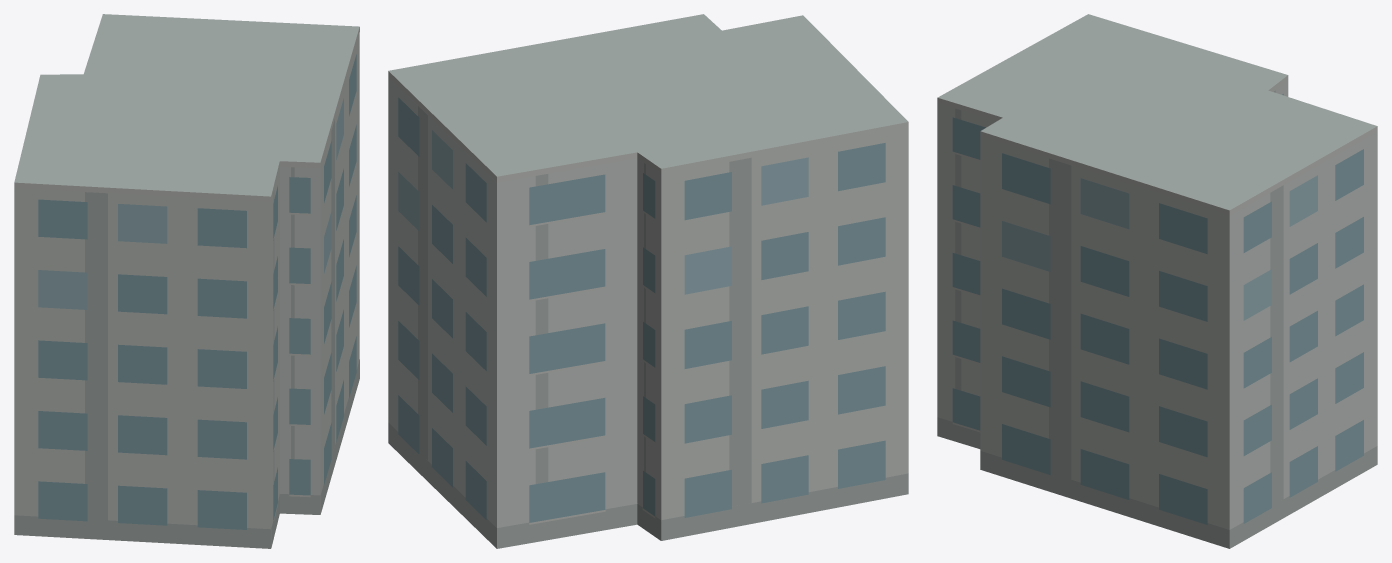
Rendered from survey-upis-32513632.glb.
3 renders of one model, left to right at view 1: azimuth 30°, elevation 25°; view 2: azimuth 150°, elevation 25°; view 3: azimuth 270°, elevation 25°, orthographic. The views are drawn at different scales.
Visible parts, largest first — view 1: survey-upis-32513632.tmp; view 2: survey-upis-32513632.tmp; view 3: survey-upis-32513632.tmp.
Part boxes in pixels (<box>): survey-upis-32513632.tmp: <box>14,14,359,548</box>; survey-upis-32513632.tmp: <box>388,14,908,548</box>; survey-upis-32513632.tmp: <box>937,14,1377,548</box>.
Bounding box in the file's own units: 18.99 × 15.25 × 17.98.
